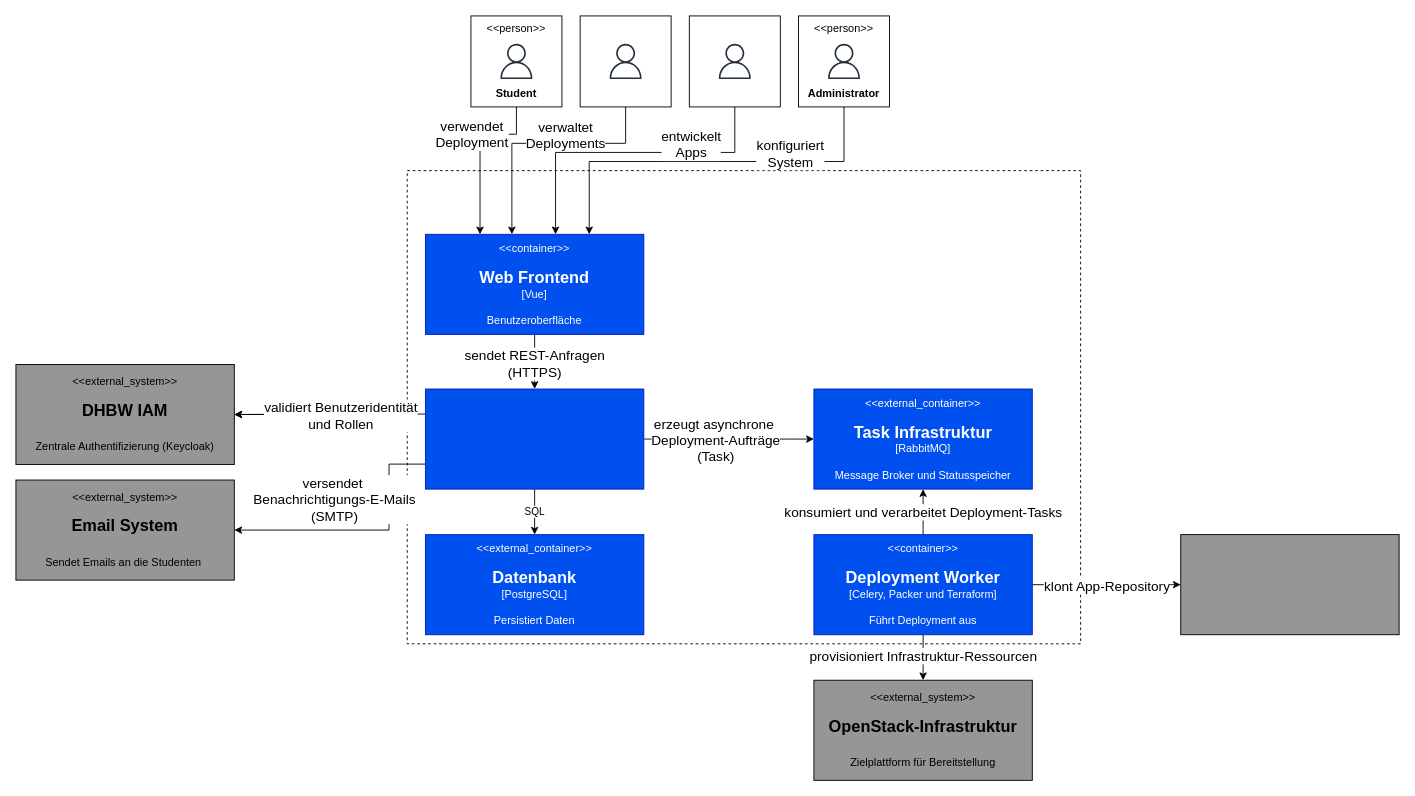
This 1415x796 diagram has some shape labels left out. Here are the shapes that lost their labels. From the top down, the box of each, then its label:
(579, 15, 671, 107): <<person>> Dozent
(688, 15, 780, 107): <<person>> Power-Dozent
(406, 170, 1081, 644): SIX7 Click'n Deploy [system]
(425, 388, 644, 489): <<container>> Backend API [Fast API] REST API und Orchestrierung
(1180, 534, 1399, 635): <<external_system>> GitHub App-Repositories Hosten Infrastructure as Code
